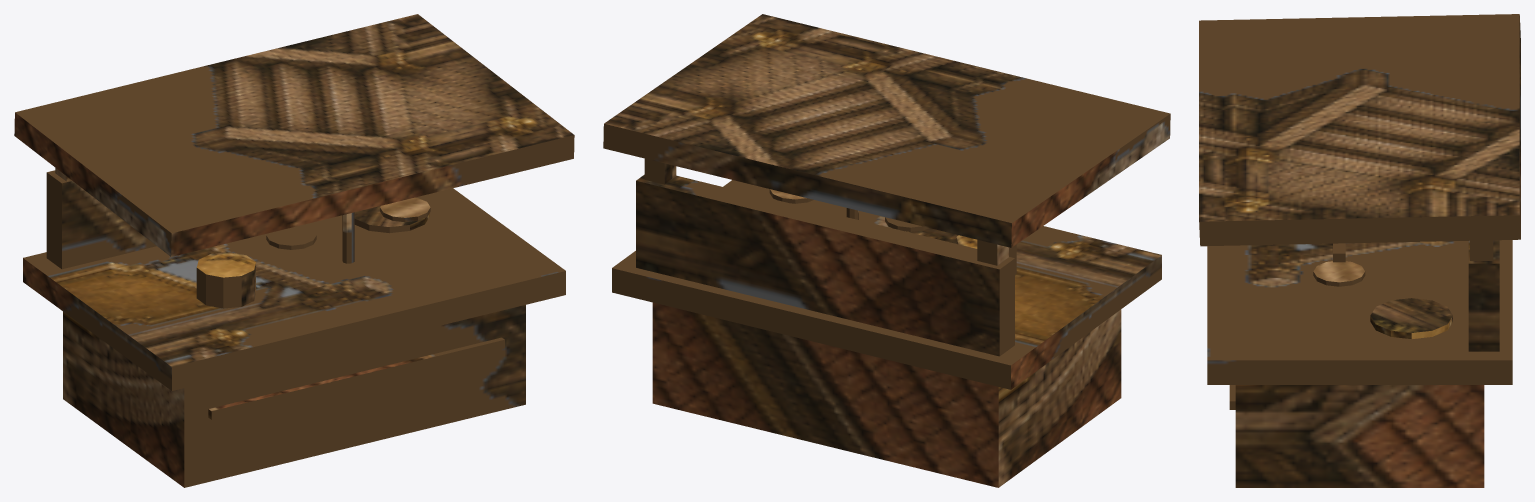
File: assay-bench.glb
3 views of the same model, side by side, from view 1: azimuth 30°, elevation 25°; view 2: azimuth 150°, elevation 25°; view 3: azimuth 270°, elevation 25° (orthographic). The views are drawn at different scales.
Visible parts, largest first — view 1: AssayBench; view 2: AssayBench; view 3: AssayBench.
Part boxes in pixels (x1=…): AssayBench: x1=14, y1=14, x2=574, y2=487; AssayBench: x1=603, y1=14, x2=1170, y2=487; AssayBench: x1=1199, y1=14, x2=1520, y2=487.
Size of the model in its own units: 1.84 by 1.23 by 1.24.
Materials: 1 (1 with a texture image).
